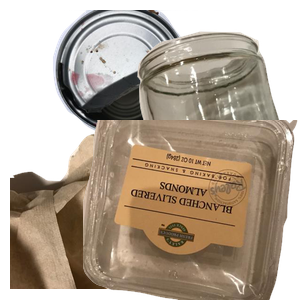glass: (135, 29, 300, 209)
metal: (50, 10, 262, 140)
plastic: (83, 120, 300, 300)
trash: (10, 120, 229, 300)
